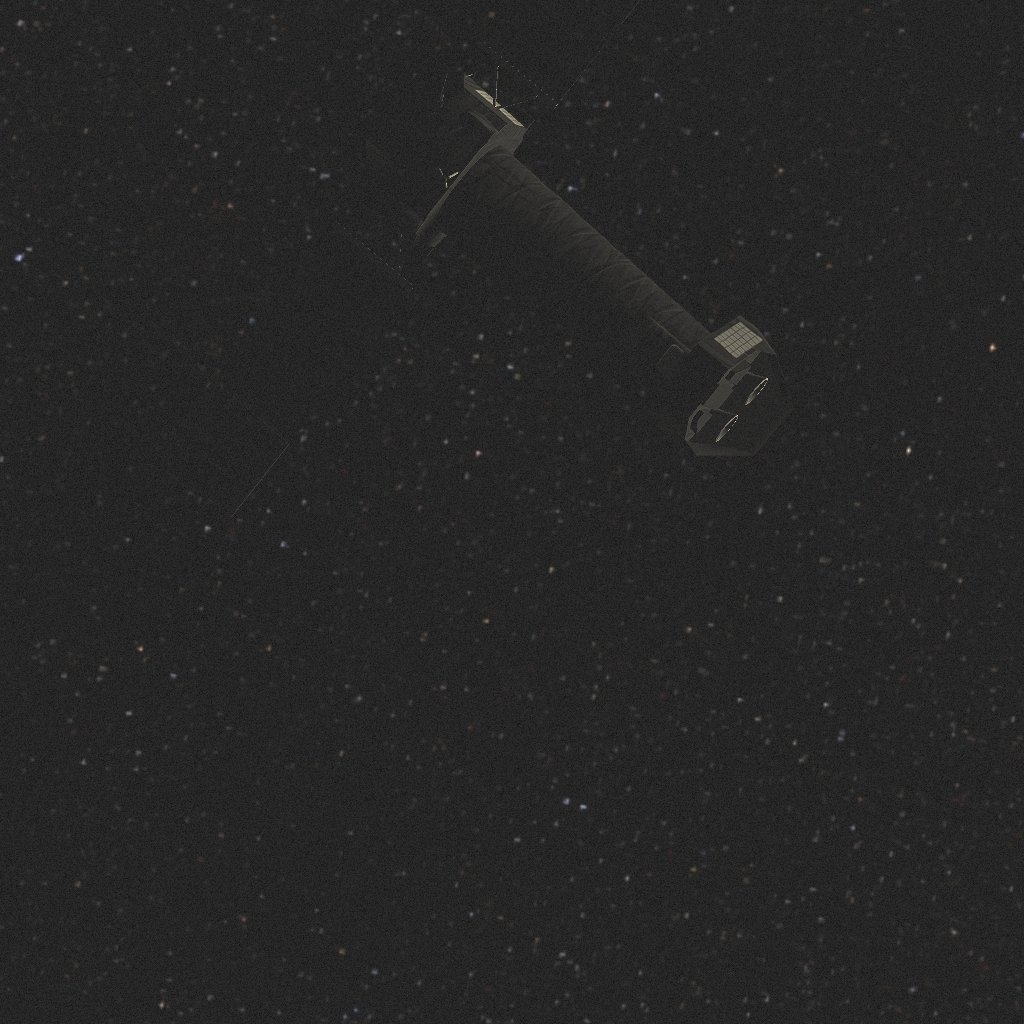xmm_newton: (157, 0, 794, 517)
